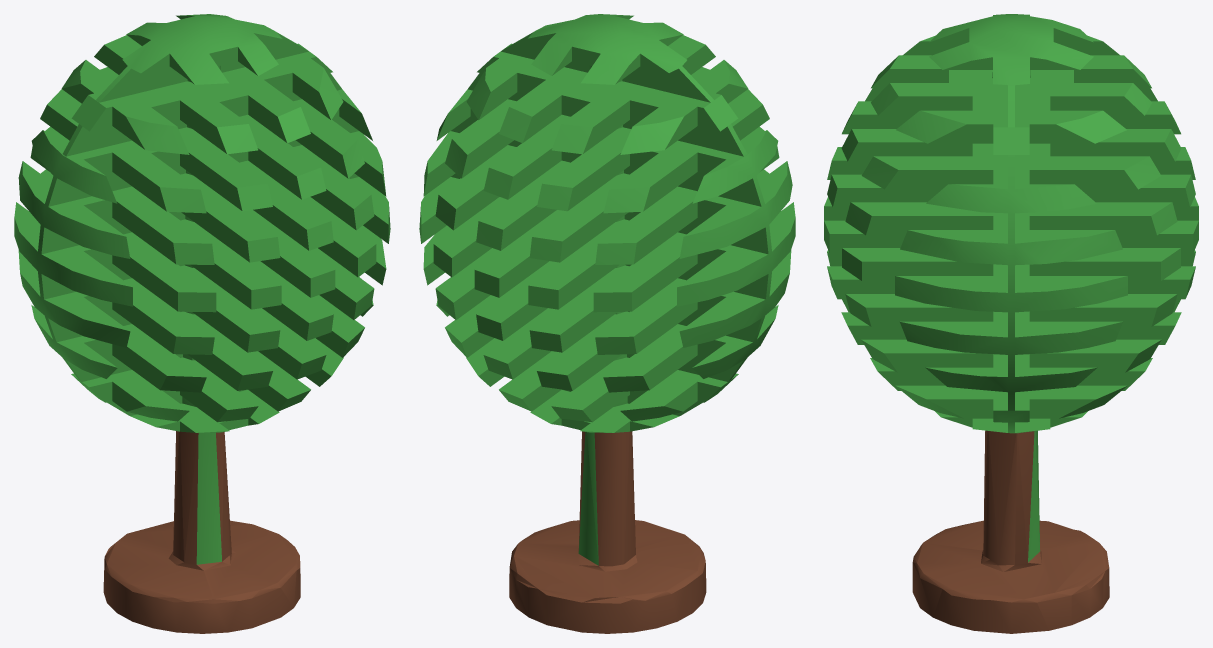
Rendered from round_tree.glb.
The picture shows the model from 3 angles, left to right: view 1: azimuth 30°, elevation 25°; view 2: azimuth 150°, elevation 25°; view 3: azimuth 270°, elevation 25°; orthographic projection.
Visible parts, largest first — view 1: round_tree; view 2: round_tree; view 3: round_tree.
Boxes of the visible parts, x1,y1,x2,y2 form: round_tree: (14, 14, 390, 633); round_tree: (419, 14, 795, 633); round_tree: (824, 14, 1198, 633).
Size of the model in its own units: 0.2304 by 0.3797 by 0.2298.
